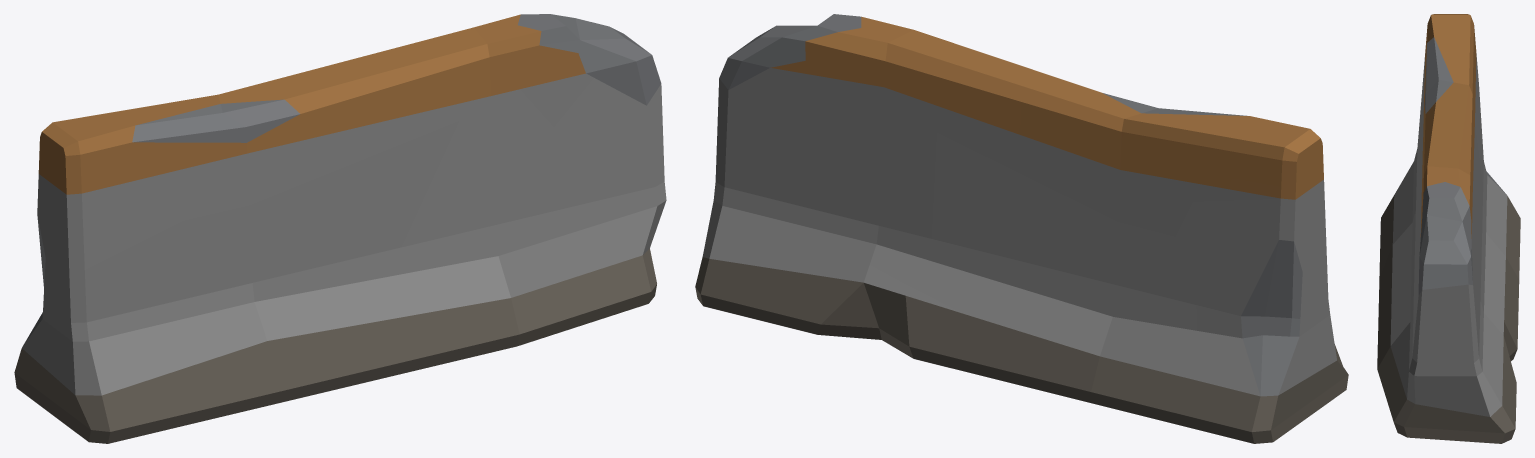
File: barrier_1_v2.fbx
3 views of the same model, side by side, from view 1: azimuth 30°, elevation 25°; view 2: azimuth 150°, elevation 25°; view 3: azimuth 270°, elevation 25° (orthographic). The views are drawn at different scales.
Visible parts, largest first — view 1: SM_Prop_Barrier_03; view 2: SM_Prop_Barrier_03; view 3: SM_Prop_Barrier_03.
Part boxes in pixels (x1,y1,x2,y2): SM_Prop_Barrier_03: [14, 14, 666, 443]; SM_Prop_Barrier_03: [695, 14, 1348, 443]; SM_Prop_Barrier_03: [1377, 14, 1520, 443].
Bounding box in the file's own units: 232 × 104 × 63.36.
1 material, 1 textured.
